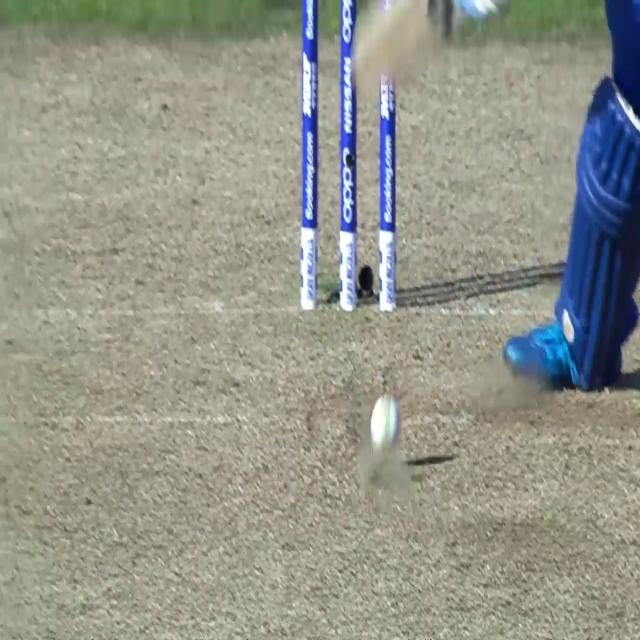ball: (361, 383, 409, 464)
